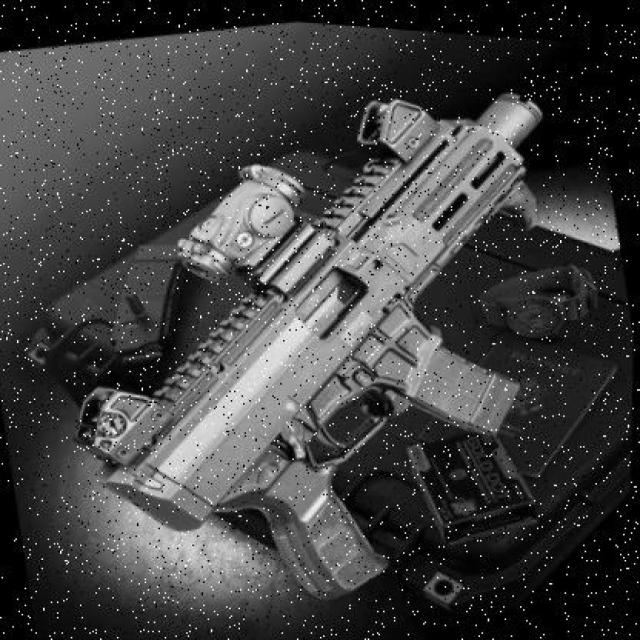weapon: (74, 90, 546, 604)
